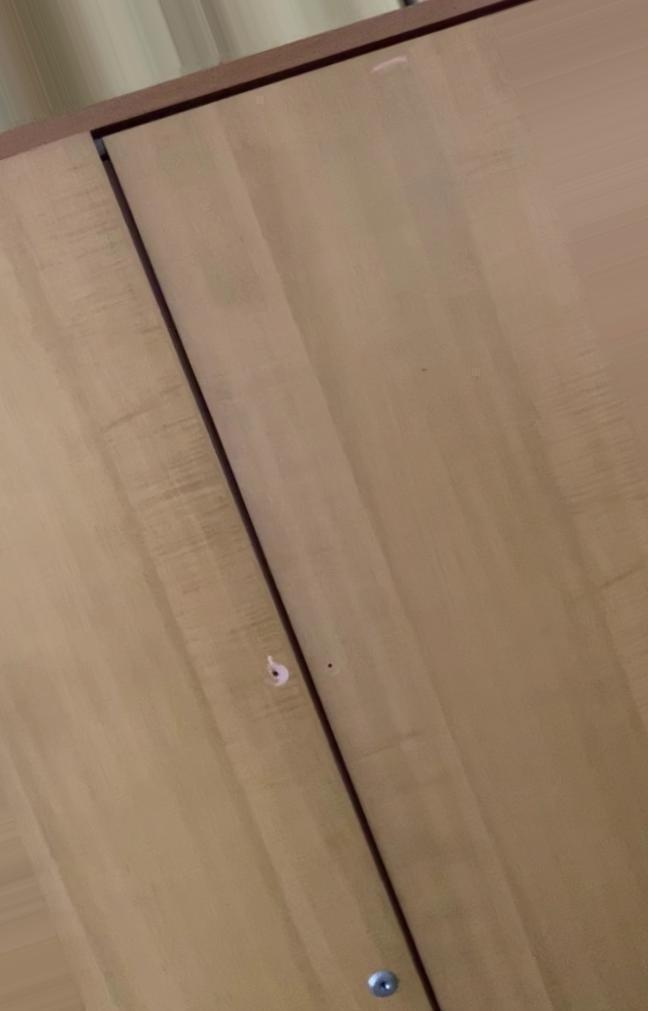Armario: (14, 28, 643, 1004)
